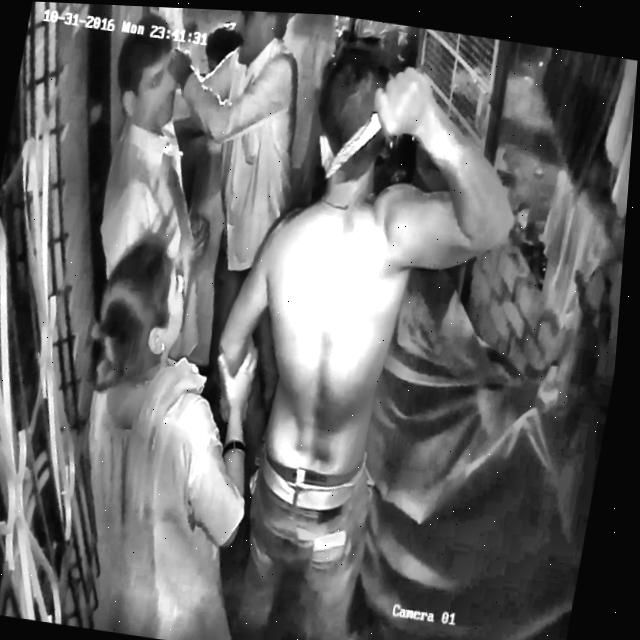pisau: (319, 65, 434, 193)
robbery: (71, 6, 521, 640)
